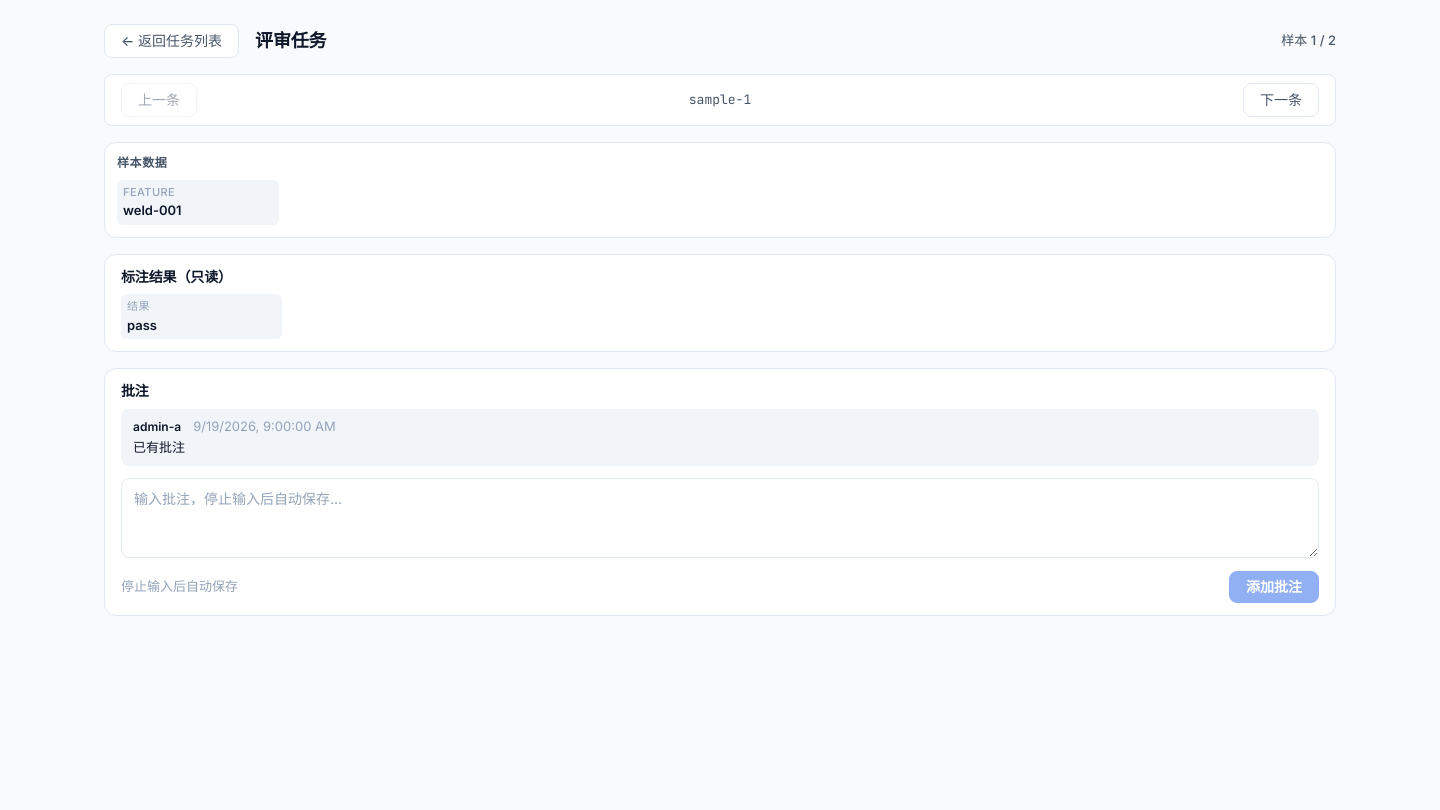
Scenario: AdminReviewPage › saves immediately via the manual button
The width and height of the screenshot is (1440, 810).
Expected: the text "weld-001" is shown, top-left (123, 202), bottom-right (182, 218)
In the text box named "批注内容": (720, 518) top-left (121, 478), bottom-right (1319, 558), type "手动批注"
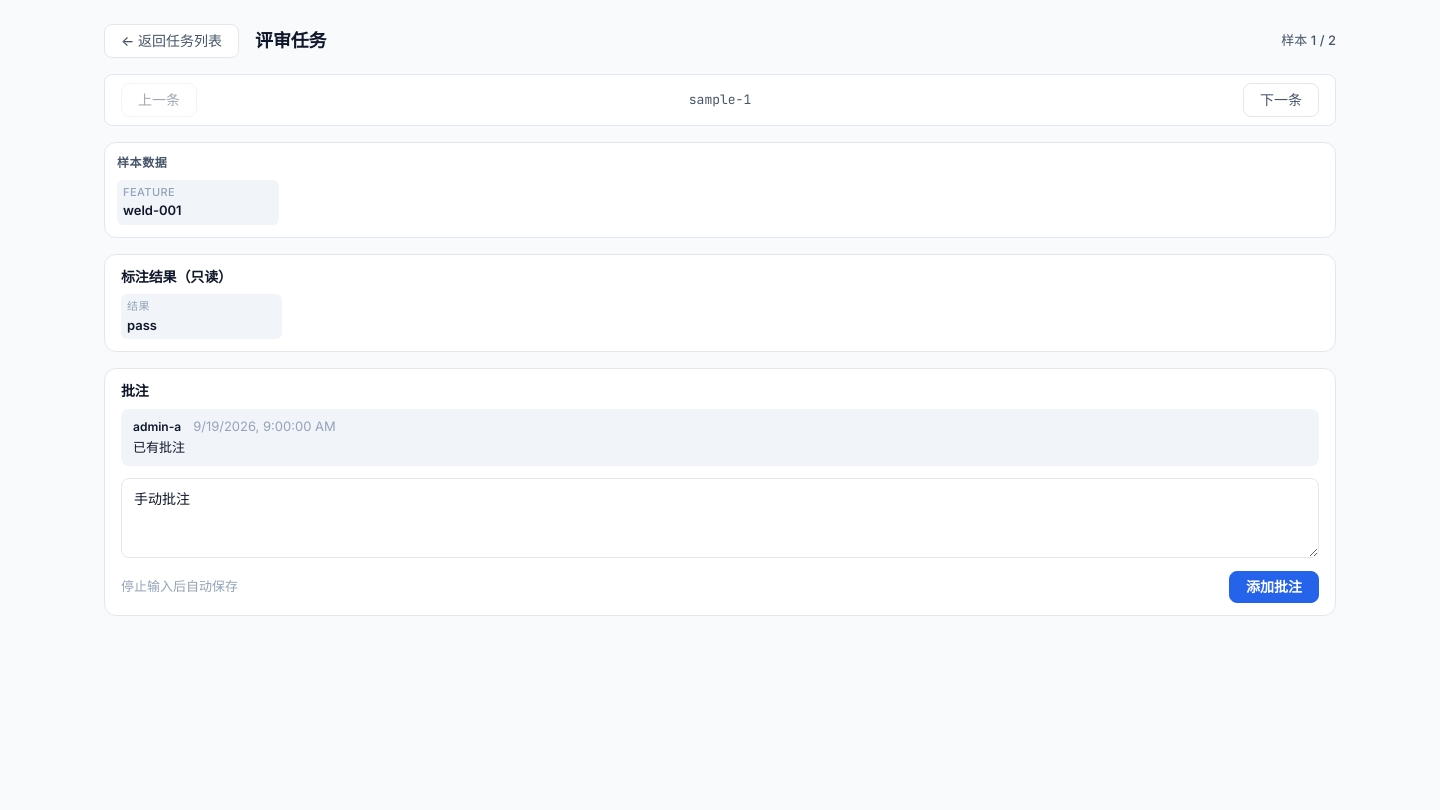
Click the button "添加批注": (1274, 587) top-left (1229, 571), bottom-right (1319, 603)
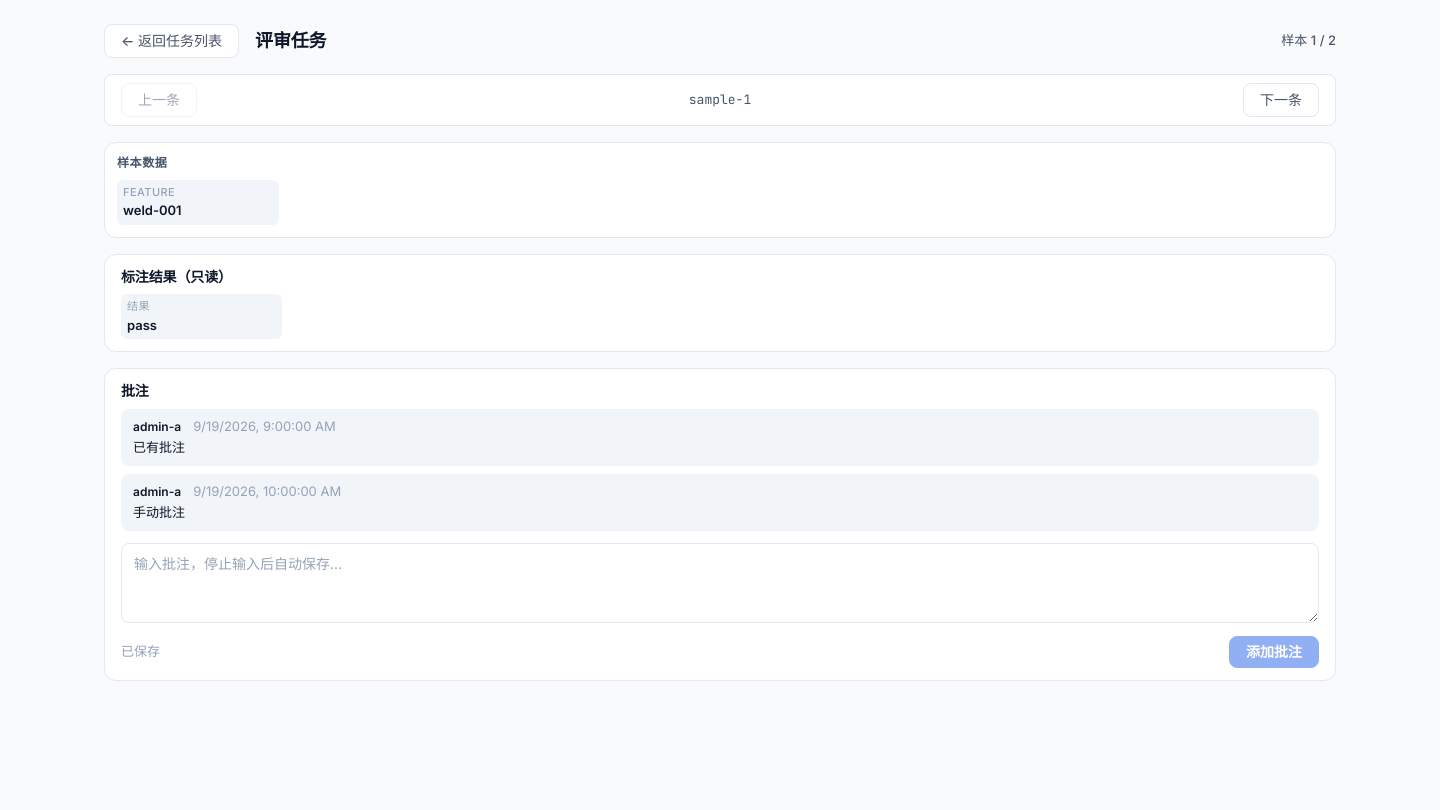
Expected: the text "手动批注" is shown, top-left (133, 504), bottom-right (185, 520)
